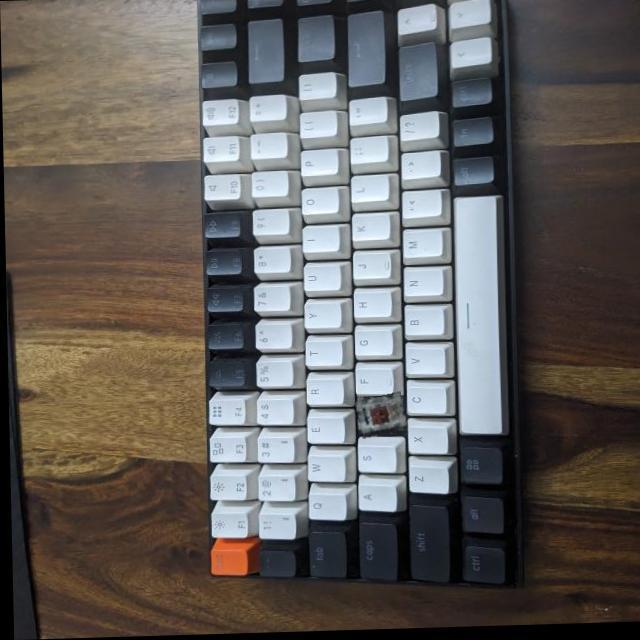key-switch: (354, 395, 405, 438)
